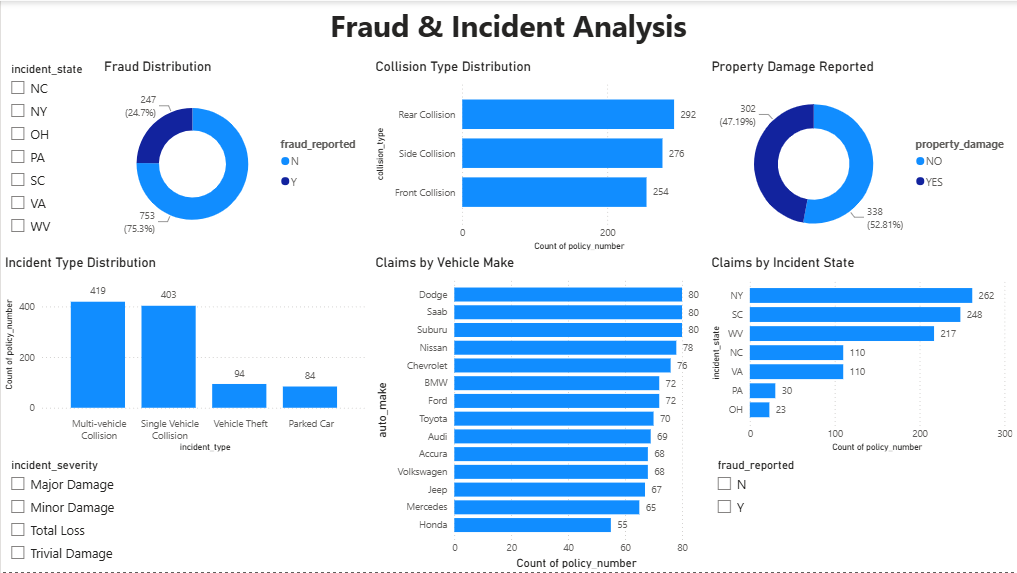

The dashboard page shown, as its layout file describes it:
{"tool":"powerbi","page":{"name":"Fraud and Incident Analysis","canvas":[1280,720],"ordinal":3},"visuals":[{"type":"textbox","box":[361.6,0,556.1,71.9],"z":0},{"type":"donutChart","title":"Fraud Distribution","fields":{"Category":["Auto Claims.fraud_reported"],"Y":["CountNonNull(Auto Claims.policy_number)"]},"box":[124.4,71.9,342.2,246.9],"z":1000},{"type":"clusteredColumnChart","title":"Incident Type Distribution","fields":{"Category":["Auto Claims.incident_type"],"Y":["CountNonNull(Auto Claims.policy_number)"]},"box":[0,318.9,466.6,252.8],"z":2000},{"type":"clusteredBarChart","title":"Collision Type Distribution","fields":{"Category":["Auto Claims.collision_type"],"Y":["CountNonNull(Auto Claims.policy_number)"]},"box":[466.6,71.9,423.9,246.9],"z":3000},{"type":"clusteredBarChart","title":"Claims by Vehicle Make","fields":{"Category":["Auto Claims.auto_make"],"Y":["CountNonNull(Auto Claims.policy_number)"]},"box":[466.6,318.9,423.9,400.5],"z":4000},{"type":"donutChart","title":"Property Damage Reported","fields":{"Category":["Auto Claims.property_damage"],"Y":["CountNonNull(Auto Claims.policy_number)"]},"box":[890.5,71.9,388.9,246.9],"z":5000},{"type":"clusteredBarChart","title":"Claims by Incident State","fields":{"Category":["Auto Claims.incident_state"],"Y":["CountNonNull(Auto Claims.policy_number)"]},"box":[890.5,318.9,388.9,252.8],"z":6000},{"type":"slicer","fields":{"Values":["Auto Claims.incident_state"]},"box":[0,71.9,124.4,246.9],"z":7000},{"type":"slicer","fields":{"Values":["Auto Claims.incident_severity"]},"box":[0,571.6,466.6,147.8],"z":8000},{"type":"slicer","fields":{"Values":["Auto Claims.fraud_reported"]},"box":[890.5,571.6,388.9,147.8],"z":9000}]}

Visuals, with their boxes in screenshot pixels (x1, y1, x2, y2), scaled from the page's 1280x720 canvas onto the 1017x573 screenshot:
textbox: 287/0/729/57
"Fraud Distribution" donutChart: 99/57/371/254
"Incident Type Distribution" clusteredColumnChart: 0/254/371/455
"Collision Type Distribution" clusteredBarChart: 371/57/708/254
"Claims by Vehicle Make" clusteredBarChart: 371/254/708/572
"Property Damage Reported" donutChart: 708/57/1016/254
"Claims by Incident State" clusteredBarChart: 708/254/1016/455
slicer - Auto Claims.incident_state: 0/57/99/254
slicer - Auto Claims.incident_severity: 0/455/371/572
slicer - Auto Claims.fraud_reported: 708/455/1016/572
